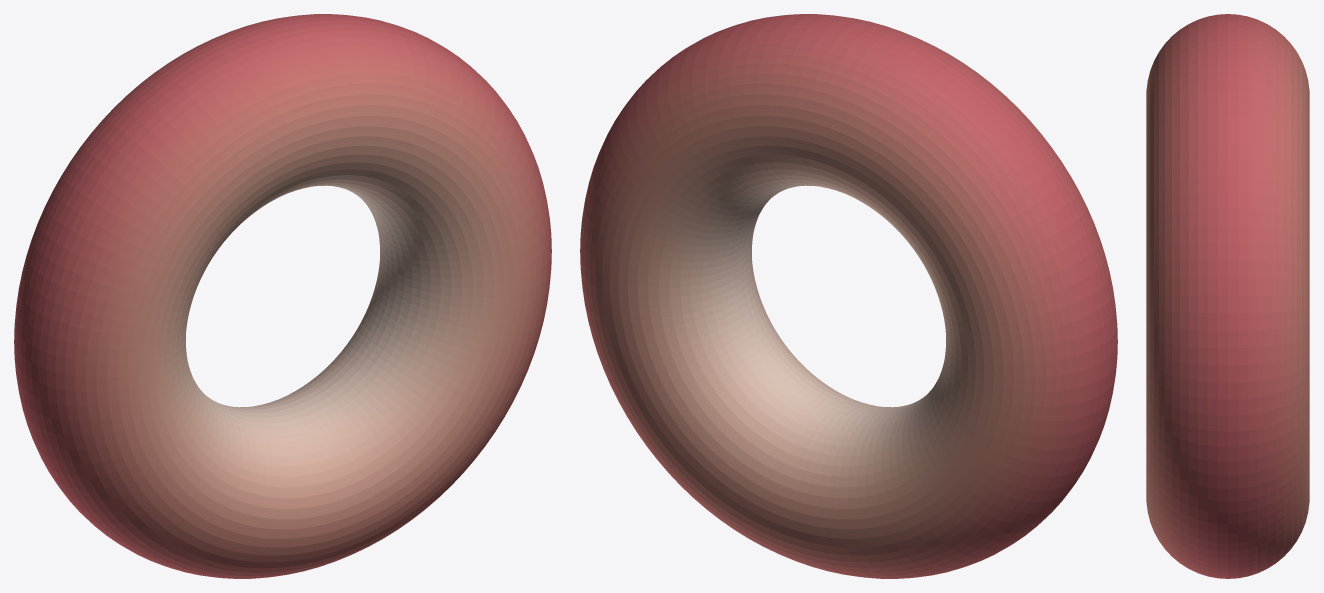
3 views of the same model, side by side, from view 1: azimuth 30°, elevation 25°; view 2: azimuth 150°, elevation 25°; view 3: azimuth 270°, elevation 25° (orthographic). The views are drawn at different scales.
Parts seen in each view (by area): view 1: world; view 2: world; view 3: world.
Part boxes in pixels (left/top/right/bottom): world: left=14, top=14, right=551, bottom=578; world: left=580, top=14, right=1117, bottom=578; world: left=1146, top=14, right=1309, bottom=578.
Bounding box in the file's own units: 28.13 × 28.13 × 8.12.
